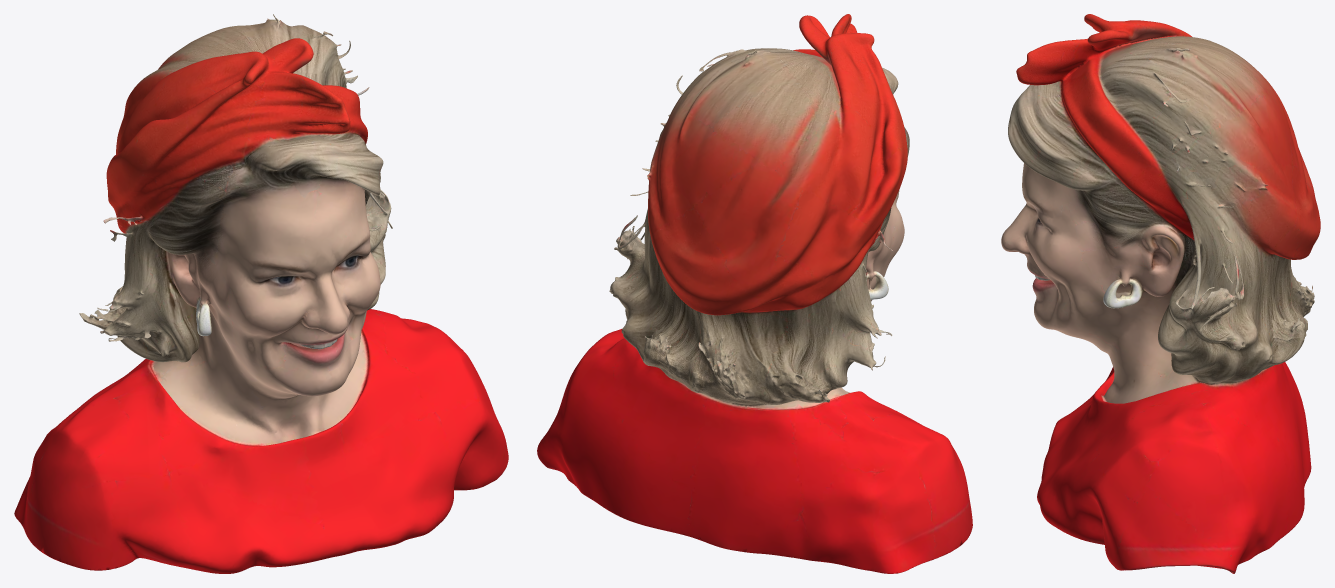
File: q6-queen-mathilde.glb
The picture shows the model from 3 angles, left to right: view 1: azimuth 30°, elevation 25°; view 2: azimuth 150°, elevation 25°; view 3: azimuth 270°, elevation 25°; orthographic projection. The views are drawn at different scales.
Size of the model in its own units: 1.79 by 1.9 by 1.22.
Materials: 1 (1 with a texture image).
